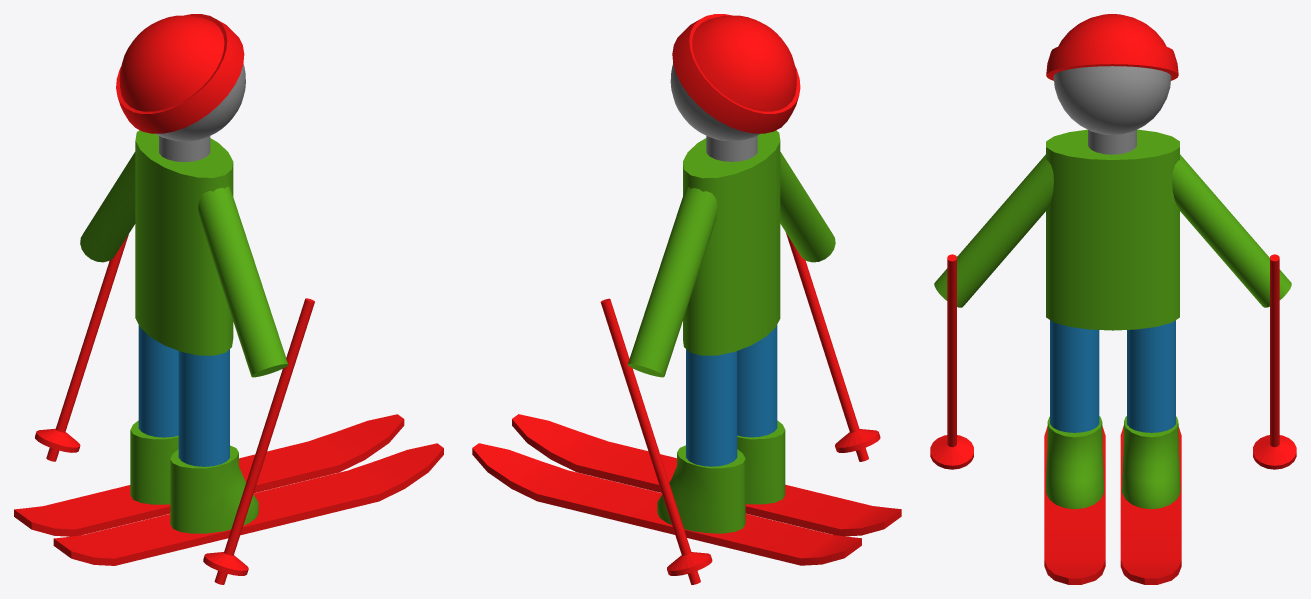
File: skieur.fbx
3 renders of one model, left to right at view 1: azimuth 30°, elevation 25°; view 2: azimuth 150°, elevation 25°; view 3: azimuth 270°, elevation 25°, orthographic. The views are drawn at different scales.
Visible parts, largest first — view 1: Sphere001, Cylinder002; view 2: Sphere001, Cylinder002; view 3: Sphere001, Cylinder002.
Part boxes in pixels (left/top/right/bottom): Sphere001: left=35, top=14, right=314, bottom=584; Cylinder002: left=14, top=325, right=443, bottom=565; Sphere001: left=600, top=14, right=880, bottom=584; Cylinder002: left=472, top=325, right=901, bottom=565; Sphere001: left=930, top=14, right=1296, bottom=469; Cylinder002: left=1044, top=320, right=1181, bottom=584.
Bounding box in the file's own units: 68.88 × 85.81 × 60.3.
